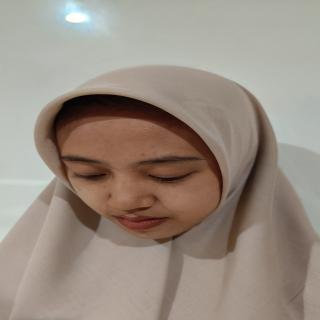Sedih: (47, 102, 224, 249)
